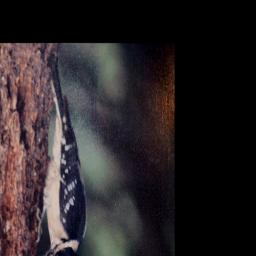Woodpecker: (31, 56, 90, 256)
